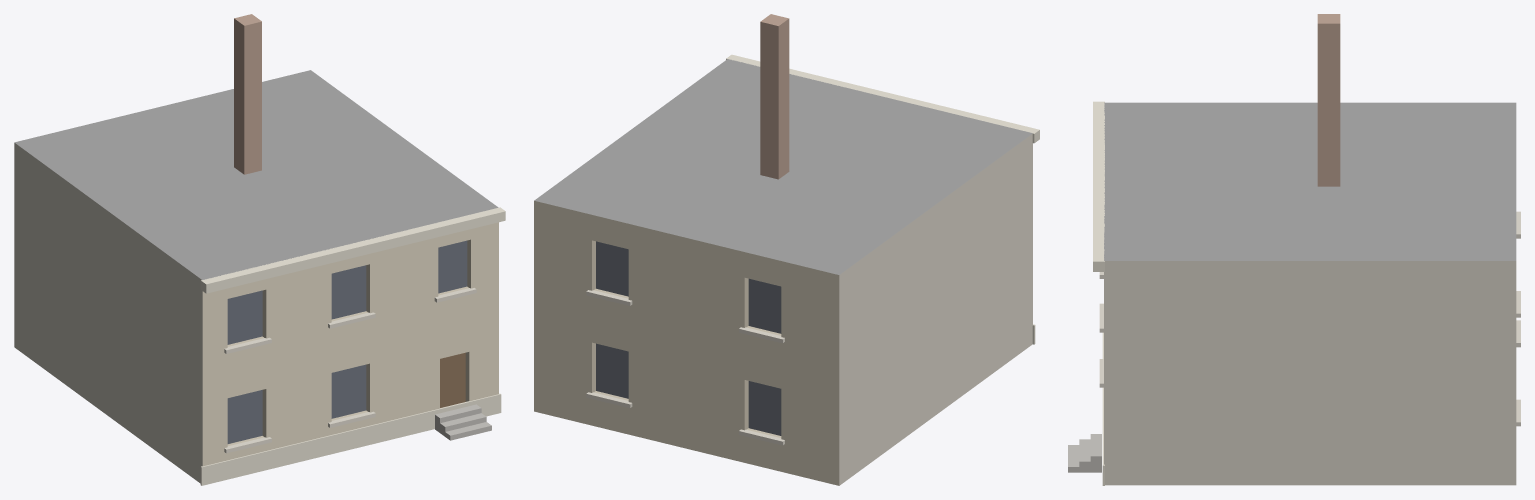
The picture shows the model from 3 angles, left to right: view 1: azimuth 30°, elevation 25°; view 2: azimuth 150°, elevation 25°; view 3: azimuth 270°, elevation 25°; orthographic projection. The views are drawn at different scales.
Parts seen in each view (by area): view 1: CP_1901_Masonry, CP_1901_Cornice_main_plinth_0, CP_1901_Cornice_main_eave_0, CP_1901_Chimney_0, CP_1901_Step_0_2; view 2: CP_1901_Masonry, CP_1901_Chimney_0, CP_1901_Cornice_main_eave_0; view 3: CP_1901_Masonry, CP_1901_Chimney_0, CP_1901_Cornice_main_eave_0.
Part boxes in pixels (x1,y1,x2,y2): CP_1901_Masonry: (14, 70, 498, 483); CP_1901_Cornice_main_plinth_0: (200, 393, 501, 485); CP_1901_Cornice_main_eave_0: (200, 207, 505, 293); CP_1901_Chimney_0: (234, 14, 261, 174); CP_1901_Step_0_2: (435, 404, 481, 432); CP_1901_Masonry: (534, 59, 1032, 485); CP_1901_Chimney_0: (760, 14, 789, 179); CP_1901_Cornice_main_eave_0: (726, 54, 1039, 143); CP_1901_Masonry: (1104, 102, 1516, 485); CP_1901_Chimney_0: (1317, 14, 1340, 186); CP_1901_Cornice_main_eave_0: (1093, 101, 1104, 271).
Bounding box in the file's own units: 10.1 × 11.4 × 12.08.
